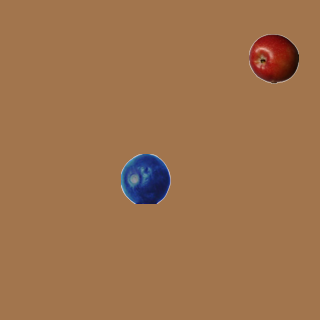Apple Braeburn: (248, 33, 298, 83)
Huckleberry: (120, 153, 170, 203)
